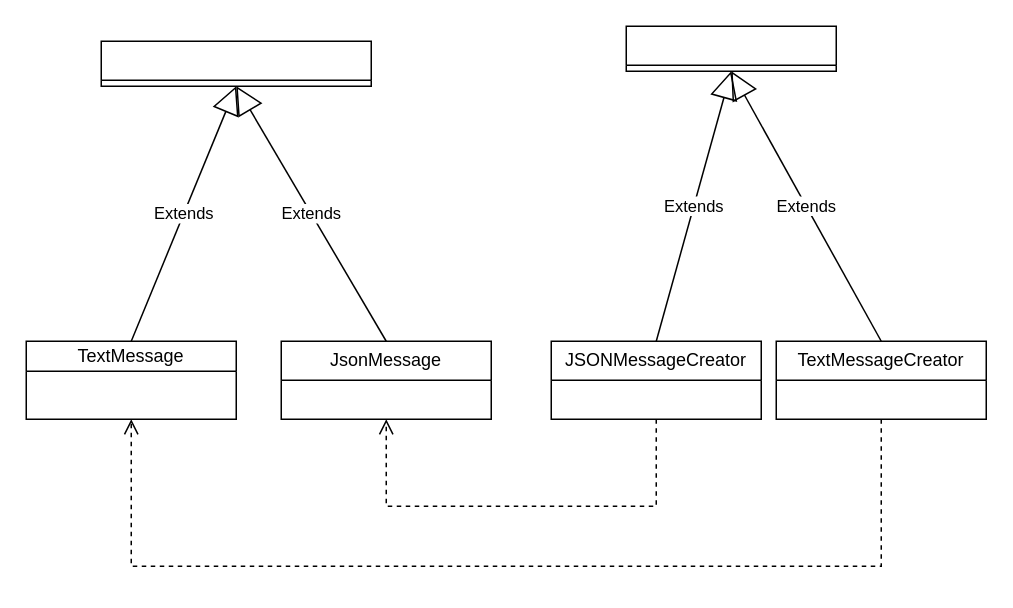
The diagram is 1013 pixels wide and 608 high, and some of its shapes have lost their labels. The box of each missing label's shape, as (x1, y1, x2, y2) in pixels:
abstract Message: (625, 25, 836, 71)
abstract MessageCreator: (100, 40, 371, 86)
